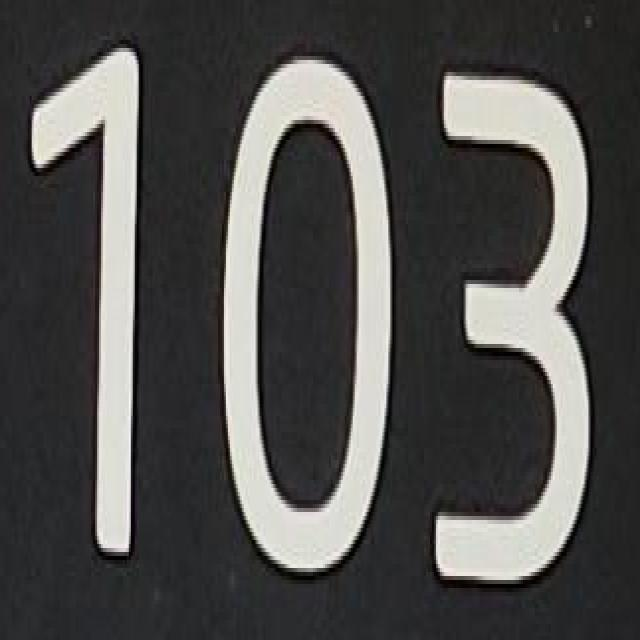character: (212, 45, 396, 588), (427, 59, 597, 604), (29, 40, 151, 573)
